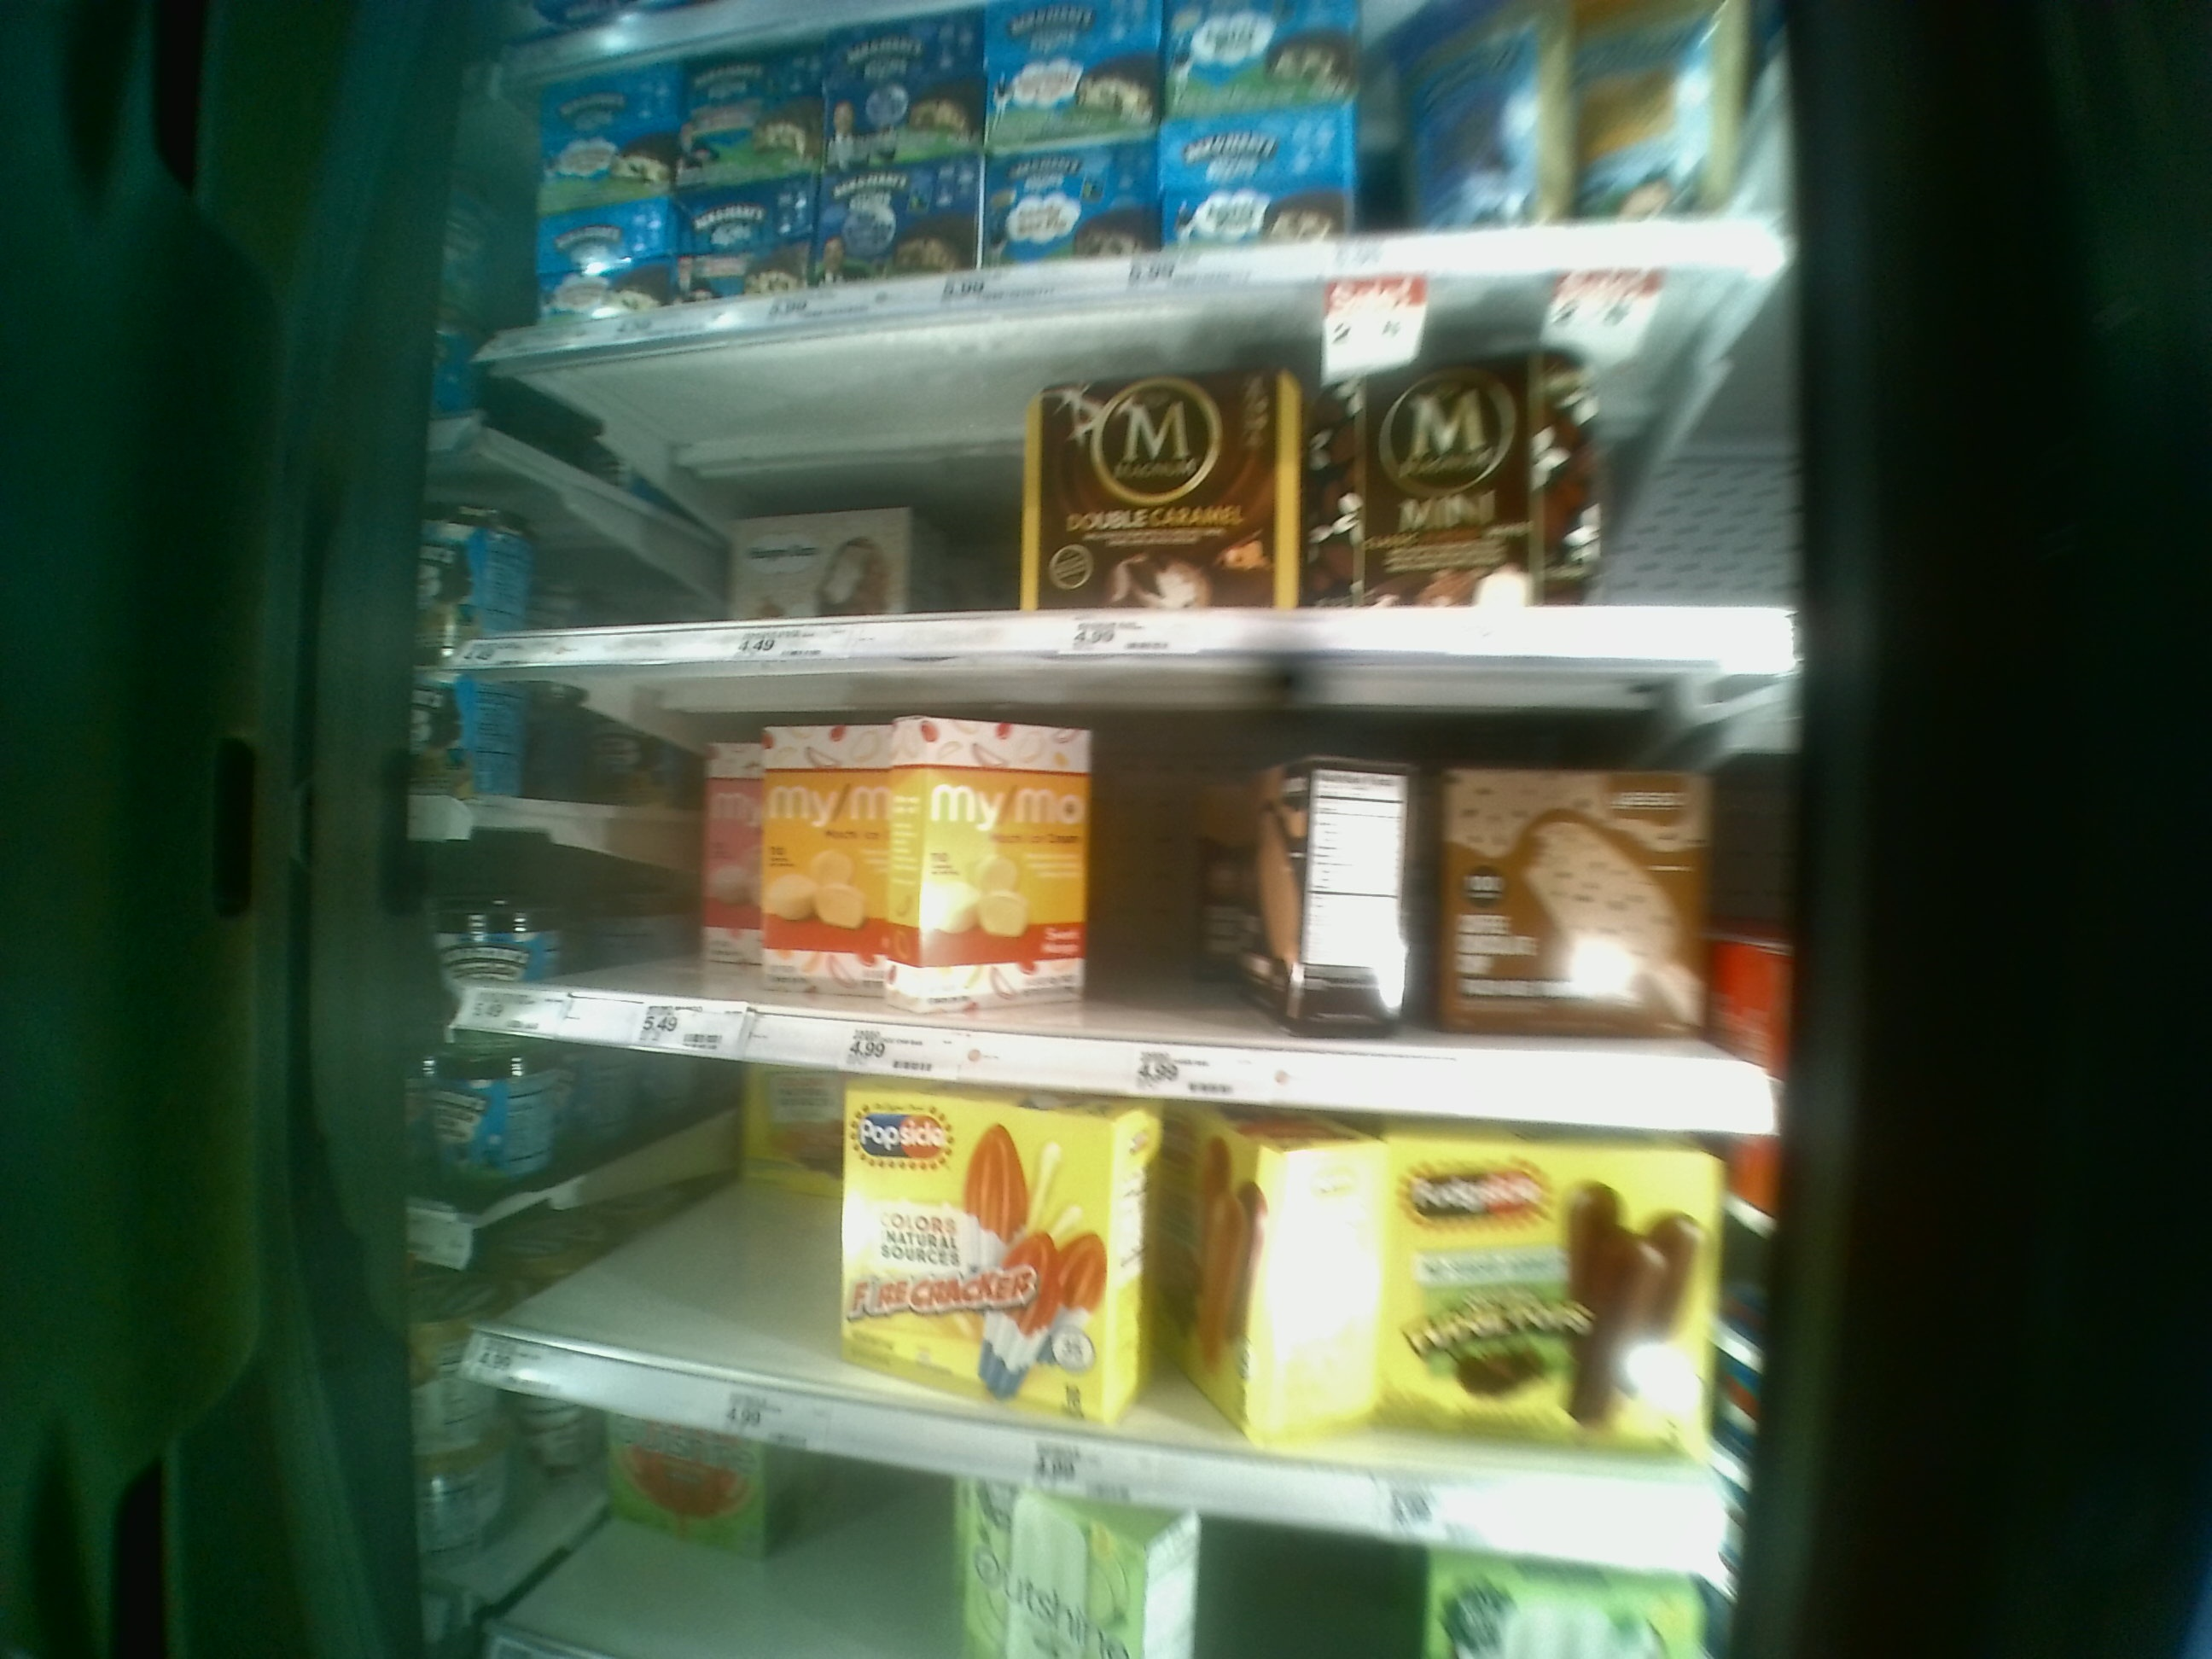shelf: (446, 1030, 1757, 1570), (434, 676, 1789, 1133), (479, 251, 1801, 676)
